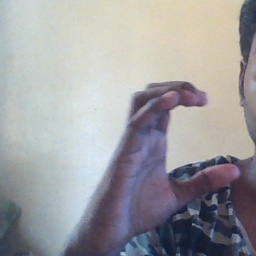C: (116, 76, 243, 202)
